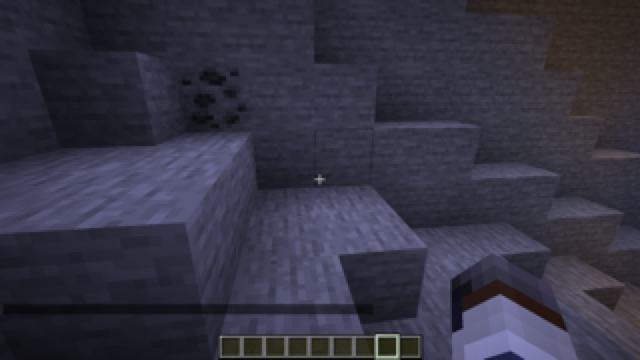coal: (176, 63, 251, 132)
